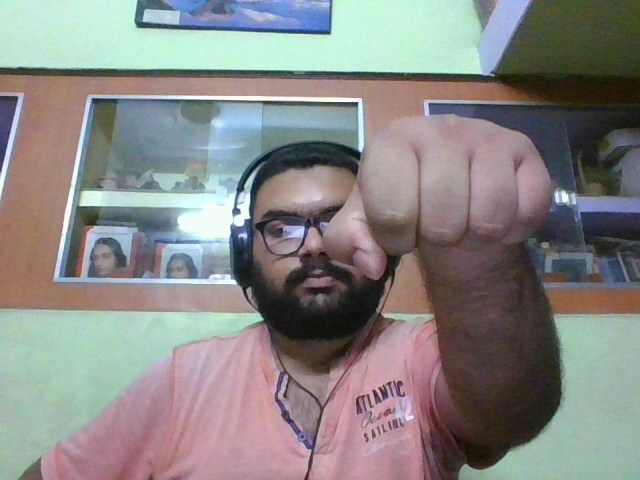yes: (325, 109, 563, 295)
